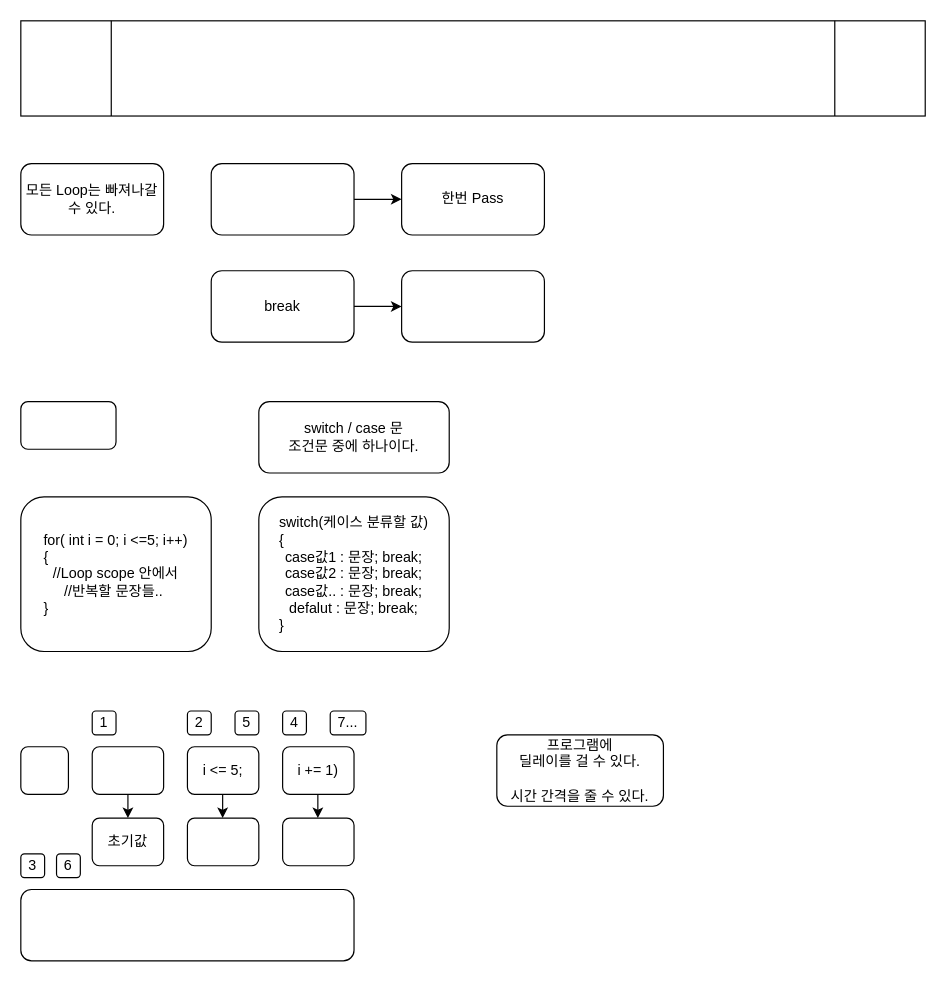
Some shapes in this 946 by 982 pixel diagram are drawn without their labels. The shapes that lost their labels are listed below. From the top down, each one's centre as x and y in pixels, then its label:
At [282,198]: "continue".
At [472,306]: "Loop를 종료한다.".
At [68,424]: "for 문".
At [44,770]: "for (".
At [127,770]: "int i = 0;".
At [222,841]: "조건식".
At [317,841]: "증감식".
At [187,924]: "{ // 반복할 내용 }".
